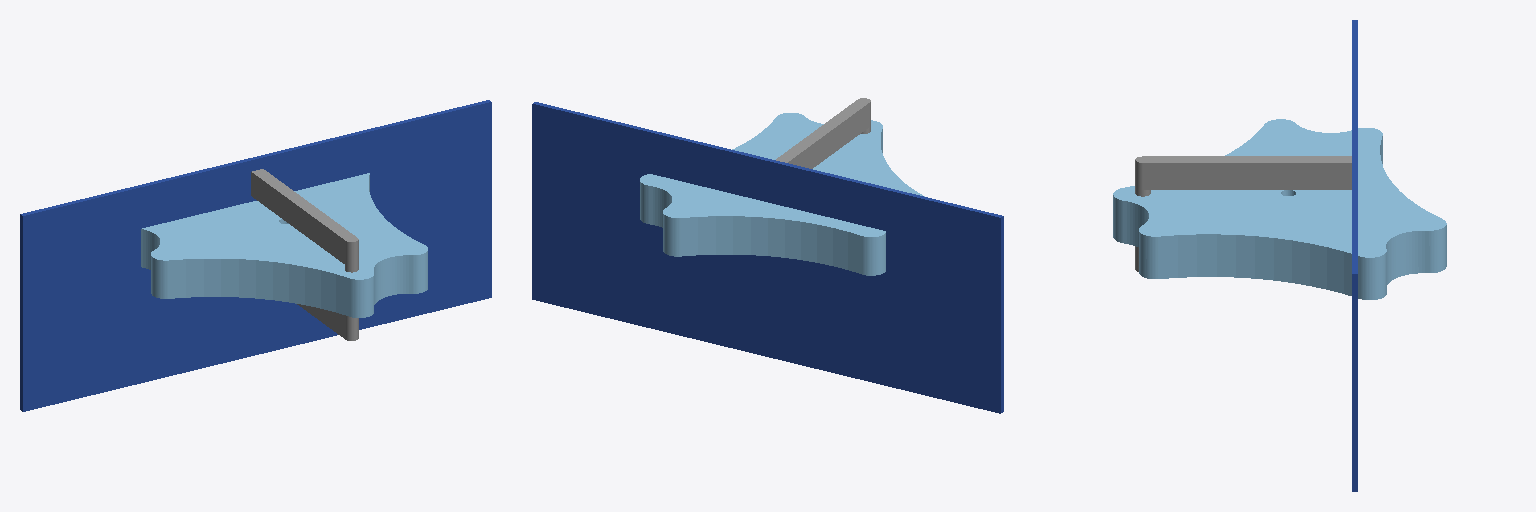
URDF robot description (onshape):
<robot name="onshape">
<link name="stand">
<visual>
<origin xyz="-4.33681e-19 0.0886586 1.38778e-17" rpy="1.5708 -0 0" />
<geometry>
<mesh filename="package://enph353_ros_lab/urdf/wheelsep2/stand.stl"/>
</geometry>
<material name="stand_material">
<color rgba="0.647059 0.647059 0.647059 1.0"/>
</material>
</visual>
<collision>
<origin xyz="-4.33681e-19 0.0886586 1.38778e-17" rpy="1.5708 -0 0" />
<geometry>
<mesh filename="package://enph353_ros_lab/urdf/wheelsep2/stand.stl"/>
</geometry>
<material name="stand_material">
<color rgba="0.647059 0.647059 0.647059 1.0"/>
</material>
</collision>
<visual>
<origin xyz="1.92627e-17 0.0911986 -0.019304" rpy="1.5708 -0 0" />
<geometry>
<mesh filename="package://enph353_ros_lab/urdf/wheelsep2/baseplate.stl"/>
</geometry>
<material name="baseplate_material">
<color rgba="0.231373 0.380392 0.705882 1.0"/>
</material>
</visual>
<collision>
<origin xyz="1.92627e-17 0.0911986 -0.019304" rpy="1.5708 -0 0" />
<geometry>
<mesh filename="package://enph353_ros_lab/urdf/wheelsep2/baseplate.stl"/>
</geometry>
<material name="baseplate_material">
<color rgba="0.231373 0.380392 0.705882 1.0"/>
</material>
</collision>
<inertial>
<origin xyz="-1.41241e-19 0.0407435 -2.18736e-05" rpy="0 0 0"/>
<mass value="454.107" />
<inertia ixx="0.509851" ixy="-2.65552e-19"  ixz="1.04105e-19" iyy="0.171953" iyz="0.000488553" izz="0.346627" />
</inertial>
</link>

<link name="wheel">
<visual>
<origin xyz="0.0606385 -0.000454 0.153337" rpy="3.14159 -0.753171 3.14159" />
<geometry>
<mesh filename="package://enph353_ros_lab/urdf/wheelsep2/wheel.stl"/>
</geometry>
<material name="wheel_material">
<color rgba="0.615686 0.811765 0.929412 1.0"/>
</material>
</visual>
<collision>
<origin xyz="0.0606385 -0.000454 0.153337" rpy="3.14159 -0.753171 3.14159" />
<geometry>
<mesh filename="package://enph353_ros_lab/urdf/wheelsep2/wheel.stl"/>
</geometry>
<material name="wheel_material">
<color rgba="0.615686 0.811765 0.929412 1.0"/>
</material>
</collision>
<inertial>
<origin xyz="6.93889e-18 -2.04256e-16 0.0886586" rpy="0 0 0"/>
<mass value="0.141446" />
<inertia ixx="0.000141657" ixy="1.14509e-20"  ixz="2.38286e-20" iyy="0.000273959" iyz="3.69159e-22" izz="0.000141657" />
</inertial>
</link>


<joint name="revolute" type="revolute">
    <origin xyz="0 -0.027 0" rpy="-1.57 0 0" />
    <parent link="stand" />
    <child link="wheel" />
    <axis xyz="0 1 0"/>
    <limit effort="1" velocity="20" />
    <joint_properties friction="0.0"/>
</joint>


</robot>

--- Facts derived from the render (not from the file) ---
3 views of the same robot in one strip: view 1: azimuth 30°, elevation 25°; view 2: azimuth 150°, elevation 25°; view 3: azimuth 270°, elevation 25° (orthographic).
Model onshape with 2 links and 1 joints (1 revolute), rooted at stand, posed all joints at 0.
Visible links, largest first — view 1: stand, wheel; view 2: stand, wheel; view 3: wheel, stand.
Boxes of the visible links, x1,y1,x2,y2 form: stand: (20,100,491,411); wheel: (141,173,427,317); stand: (532,98,1003,413); wheel: (640,113,924,275); wheel: (1113,119,1446,299); stand: (1135,20,1357,491).
Bounding box of the posed robot: 0.254 × 0.1411 × 0.1016 m (x, y, z).
3 mesh visuals loaded from 3 distinct referenced files (3 binary STL).